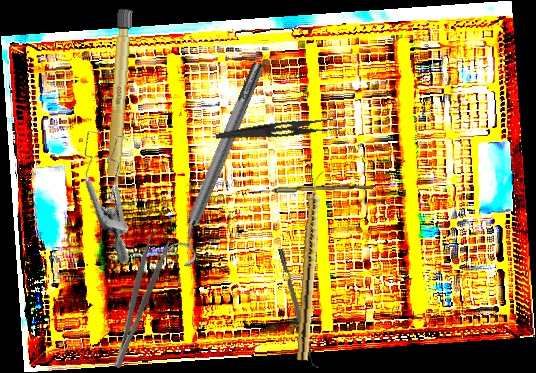Chopper: (278, 246, 321, 371)
Dressing Forceps: (100, 233, 173, 370), (215, 111, 343, 153)
Fixation Ring: (160, 57, 277, 270)
Handpiece: (295, 170, 326, 362)
Scalpel Handle: (103, 7, 133, 205)
Speculum: (41, 114, 188, 266)
Surgical Spoon: (238, 182, 375, 196)
